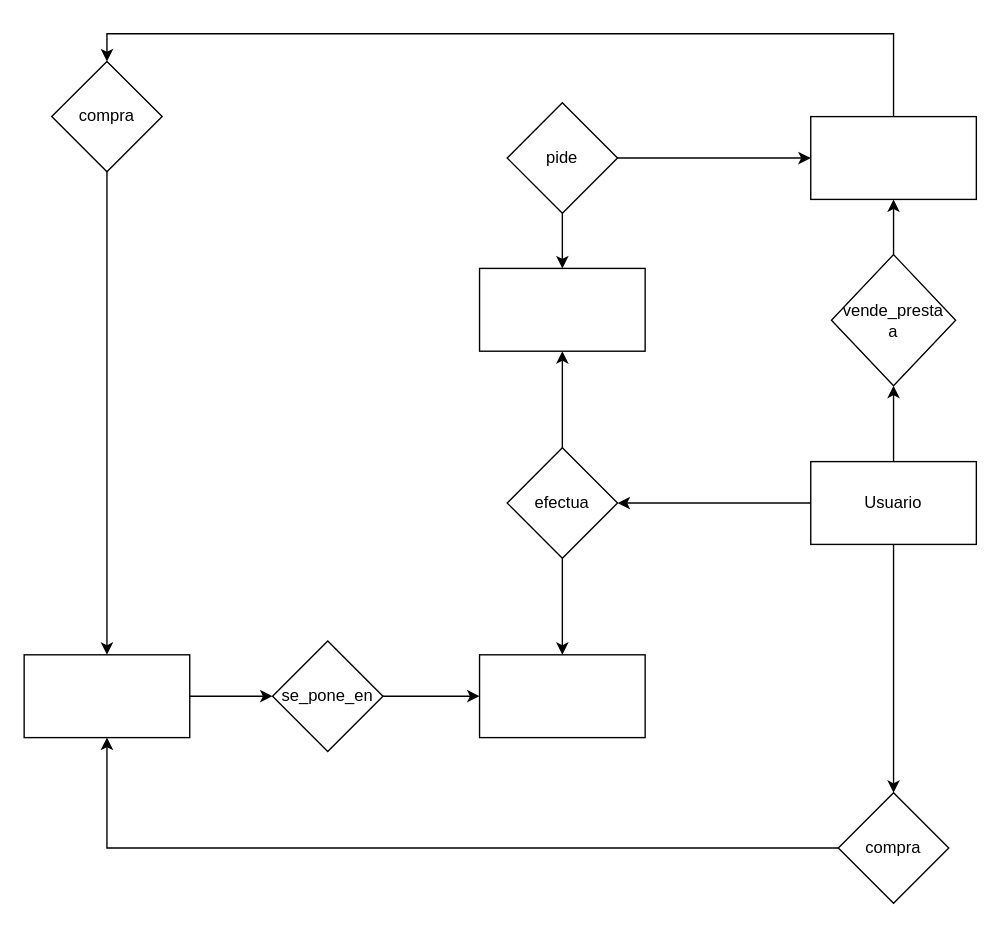
Image size: 1001x927. Some labels were removed from this diagram. Each missing label, with the centre of its shape:
Cliente: the point at 892,157
Libro: the point at 106,695
Préstamo: the point at 561,309
Venta: the point at 561,695
